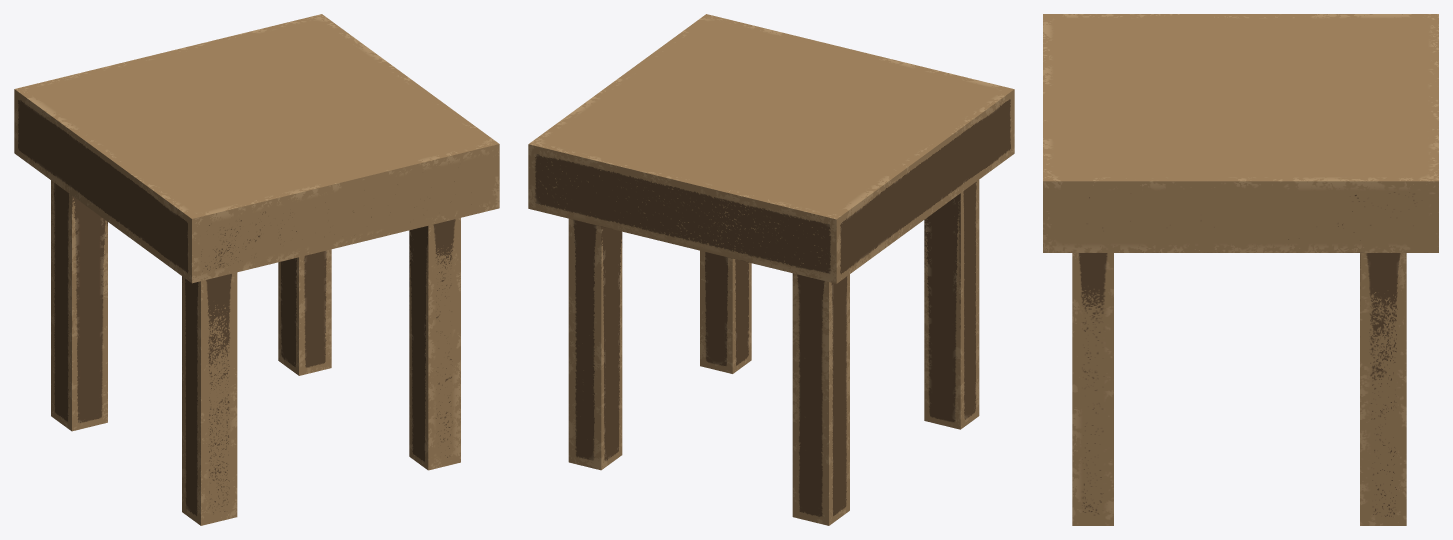
Rendered from level3_Moving3.fbx.
3 renders of one model, left to right at view 1: azimuth 30°, elevation 25°; view 2: azimuth 150°, elevation 25°; view 3: azimuth 270°, elevation 25°, orthographic. The views are drawn at different scales.
Parts seen in each view (by area): view 1: Level3_ForSP:MovingPlatform3; view 2: Level3_ForSP:MovingPlatform3; view 3: Level3_ForSP:MovingPlatform3.
Boxes of the visible parts, <box> form: Level3_ForSP:MovingPlatform3: <box>14,14,499,525</box>; Level3_ForSP:MovingPlatform3: <box>528,14,1014,525</box>; Level3_ForSP:MovingPlatform3: <box>1043,14,1438,525</box>.
Size of the model in its own units: 1 by 1 by 1.
Materials: 1 (1 with a texture image).
